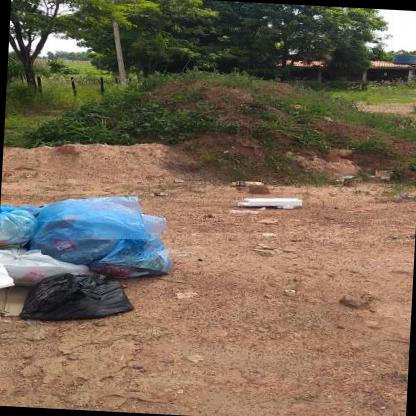lixo: (0, 188, 175, 328)
